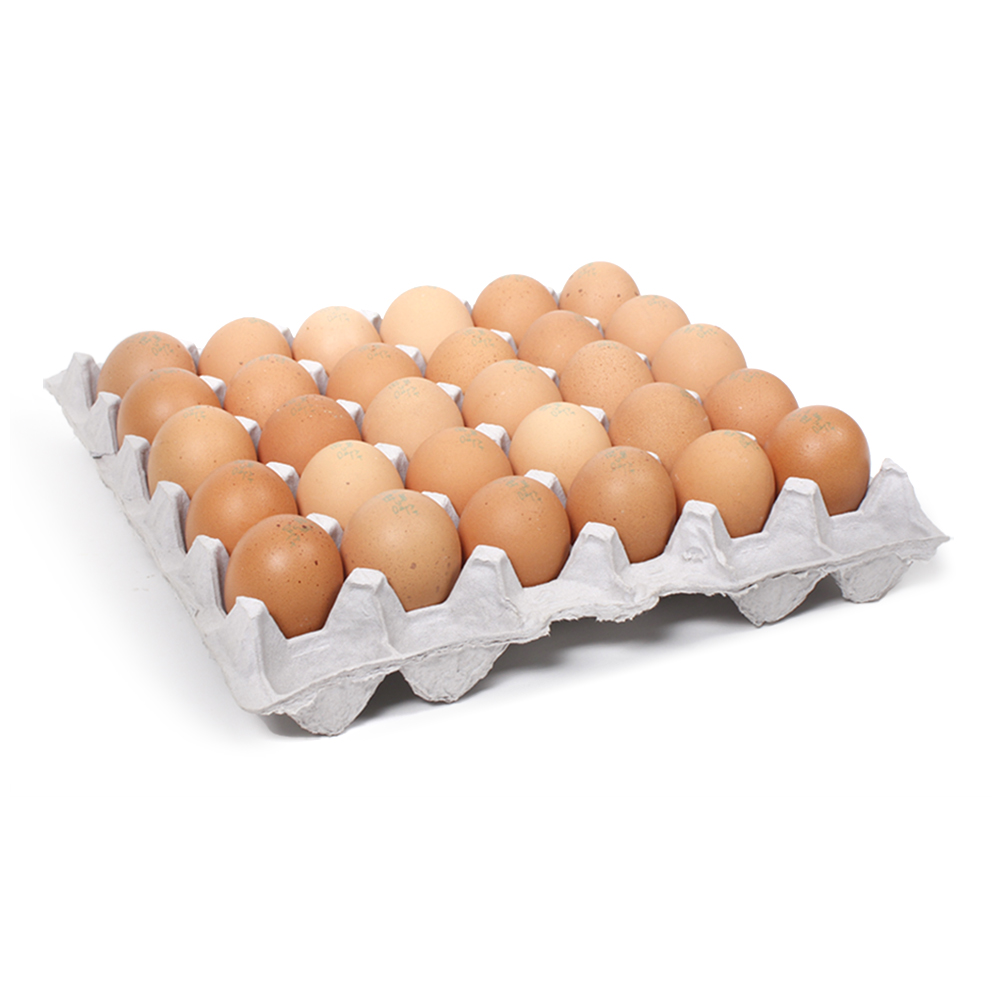egg: (96, 266, 893, 639)
